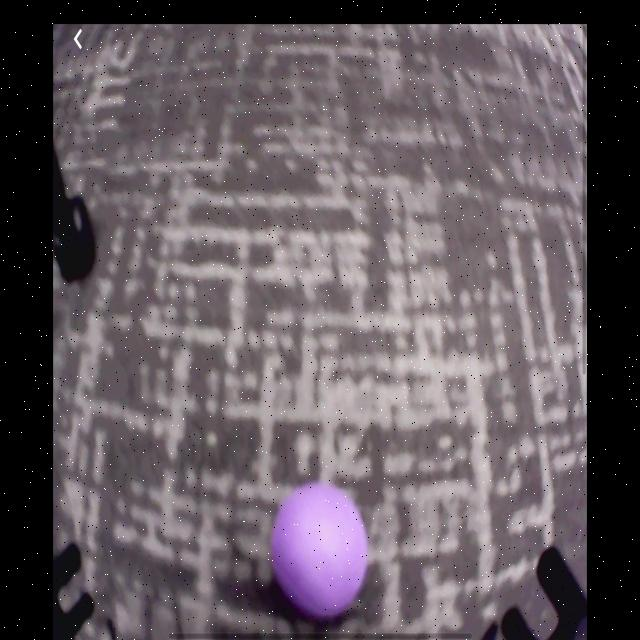ball: (272, 483, 370, 623)
